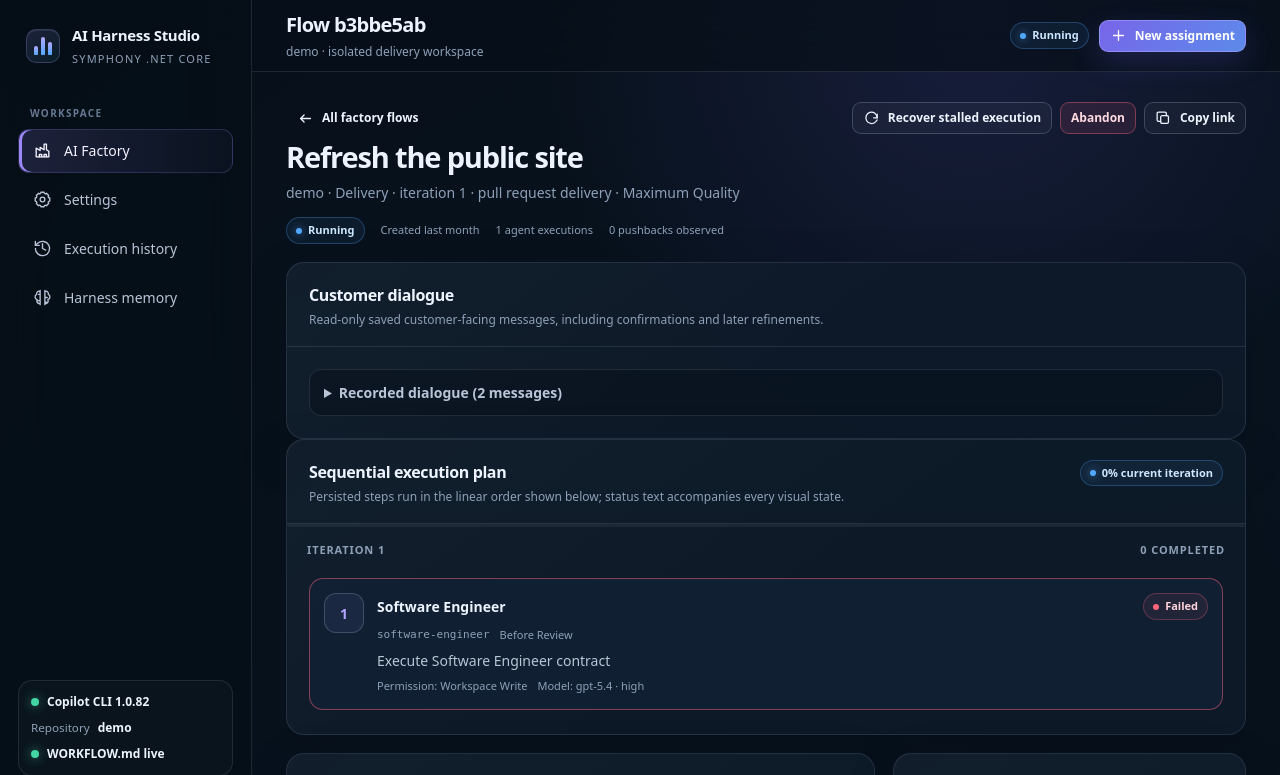
Test: FlowPage manual restart › keeps only the customer dialogue accessible when Running
The width and height of the screenshot is (1280, 775).
Expected: the element "Customer dialogue" is shown, [286,262,1246,439]
Click the heading "Recorded dialogue (2 messages)": [450, 392] box [339,383,562,402]
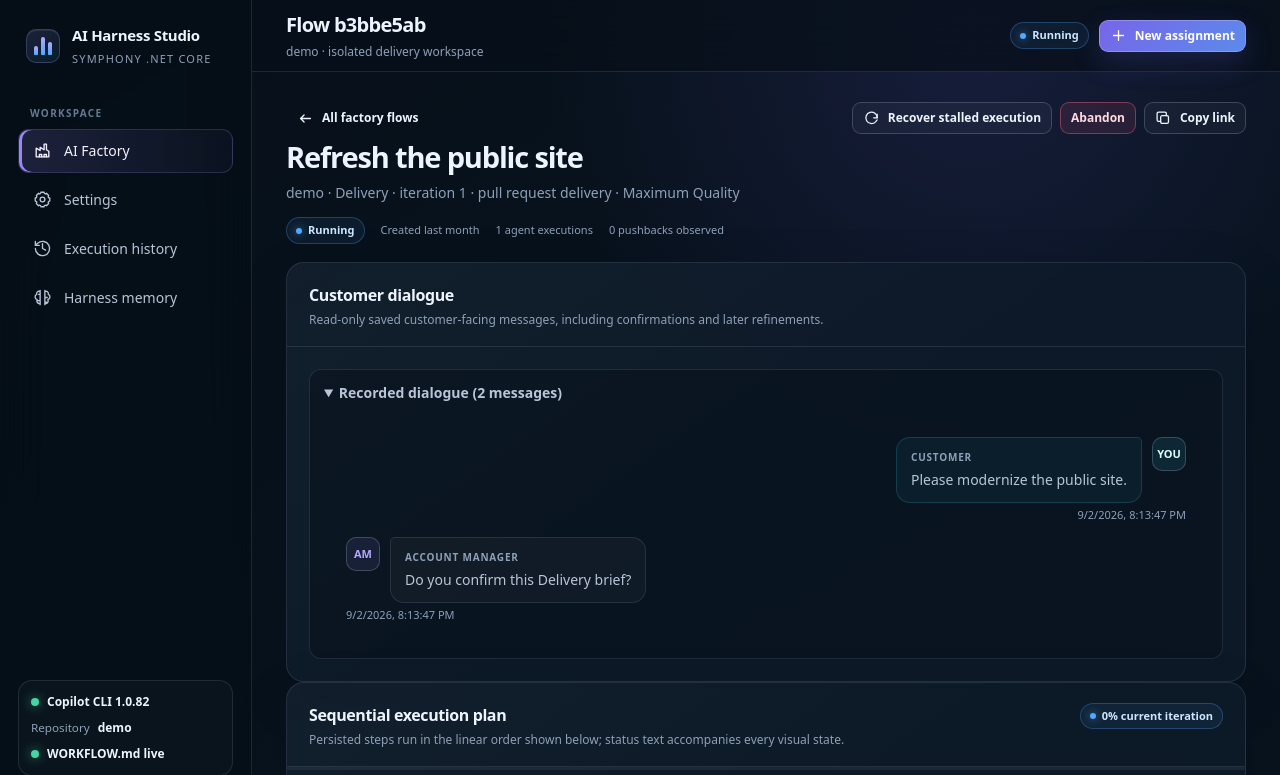
Now the text "Please modernize the public site." is shown, box [911,470,1127,489]
Now the text "Do you confirm this Delivery brief?" is shown, box [405,570,631,590]
